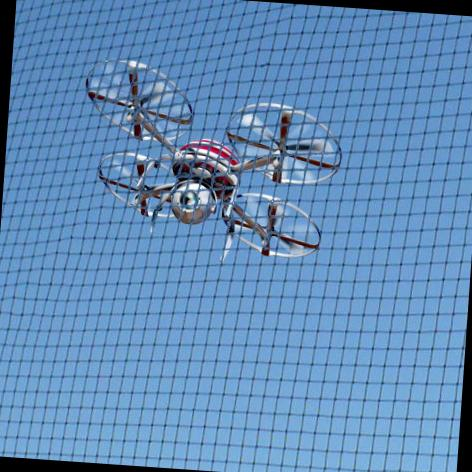drone: (54, 40, 354, 283)
